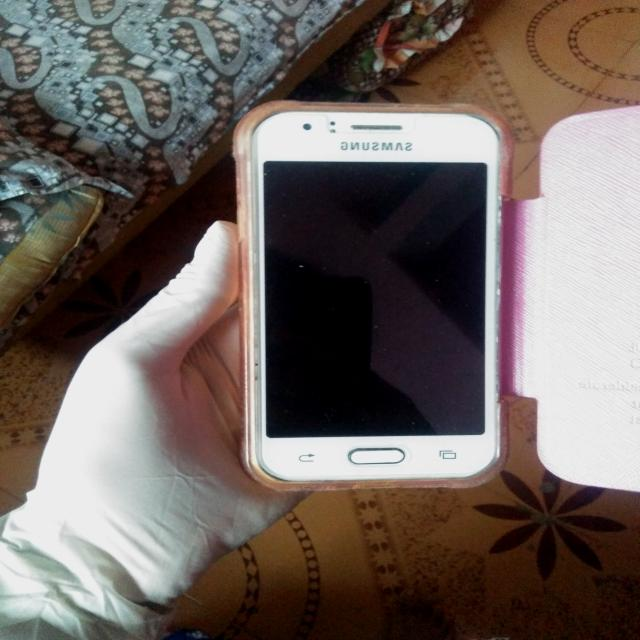glove: (2, 210, 320, 639)
